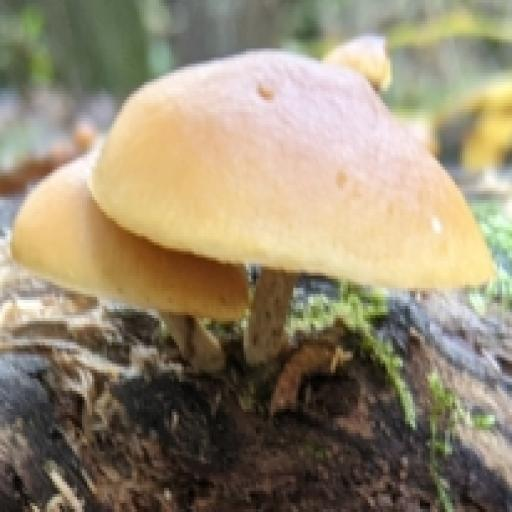mushroom: (6, 48, 502, 355)
